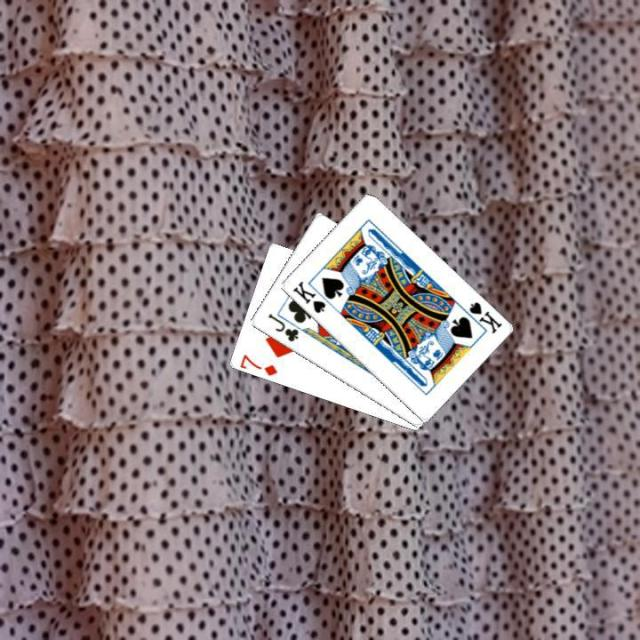7D: (237, 350, 279, 378)
JC: (263, 309, 301, 344)
KS: (457, 298, 503, 336), (288, 278, 327, 316)
